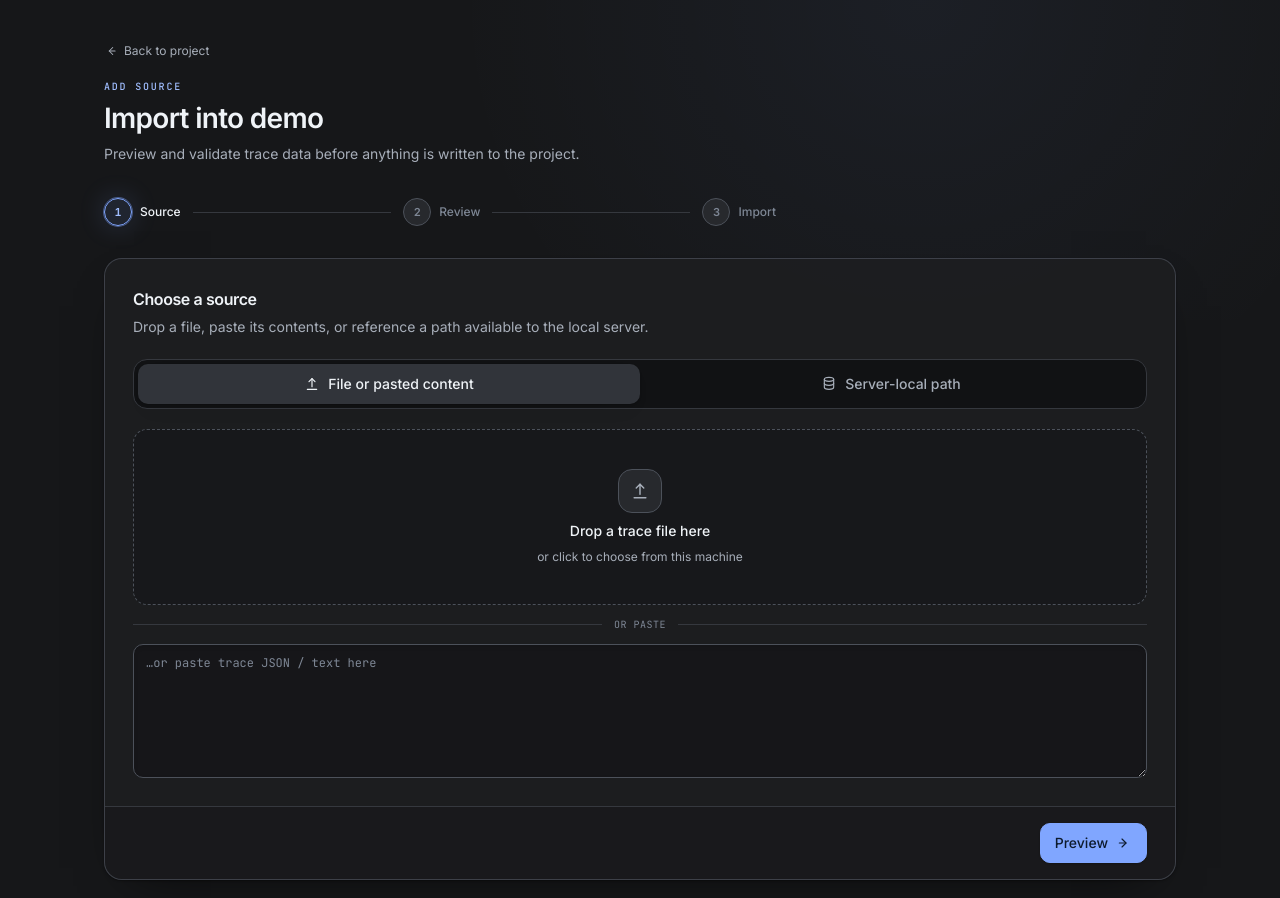
it: ImportWizard › shows a validation error instead of previewing when the active field is empty
The image size is (1280, 898).
Click the button "Preview": (1093,843) [1040,823,1147,863]
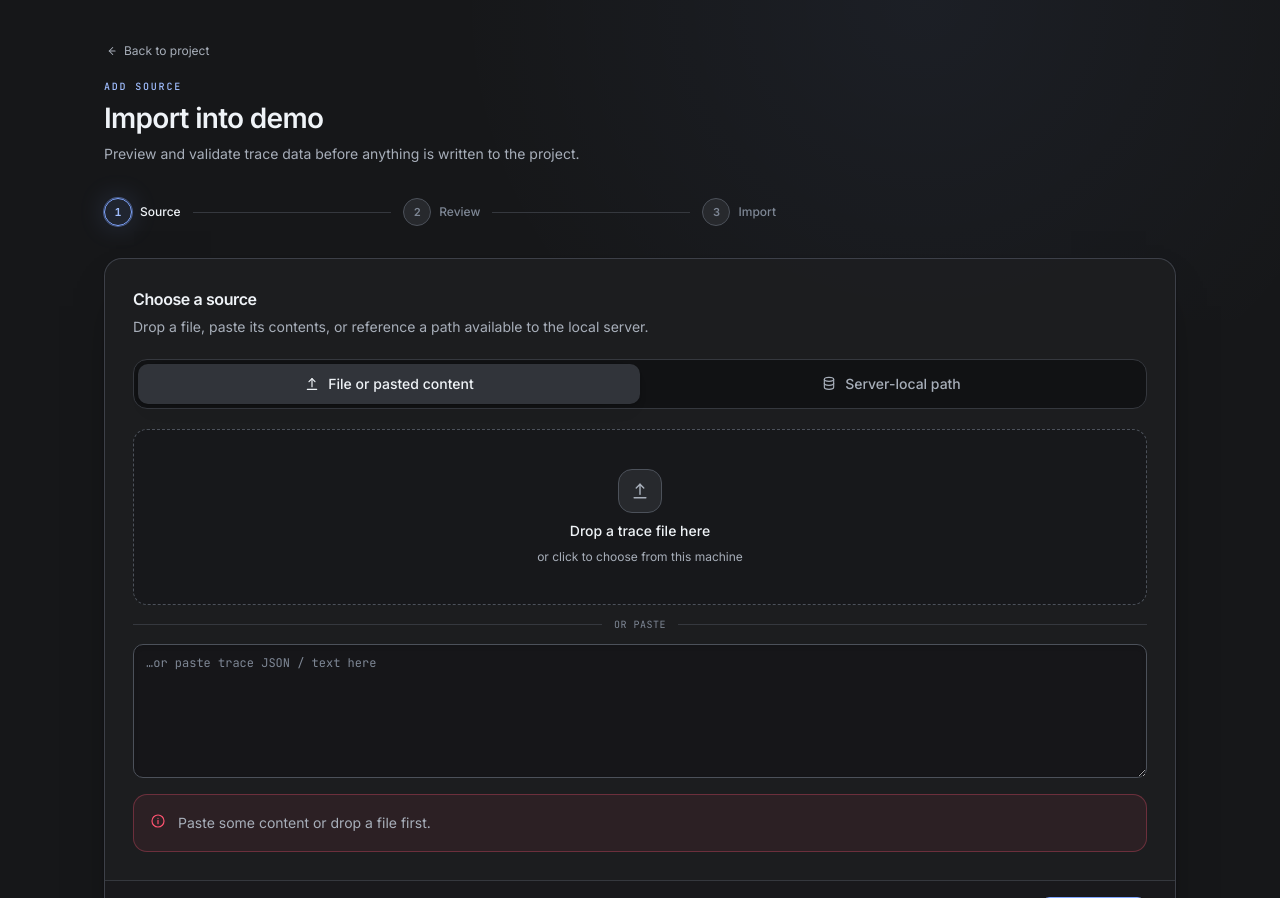
Check: the text "Paste some content or drop a file first." is shown, box [178,811,431,835]
